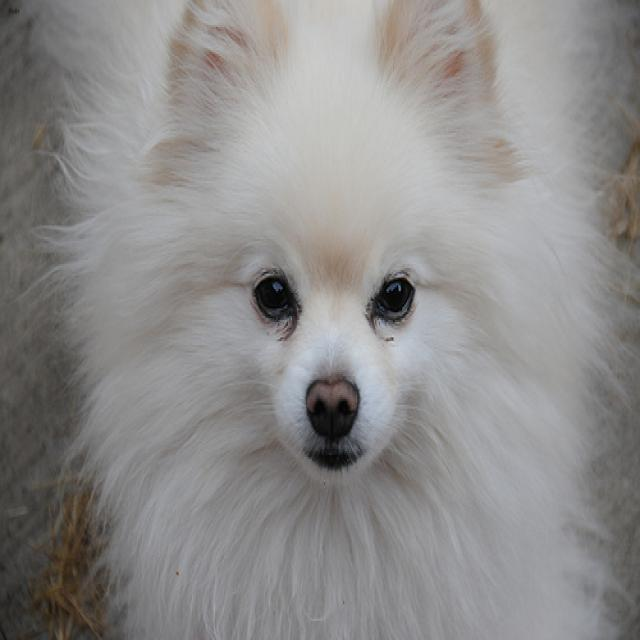dog-pomeranian: (5, 2, 637, 636)
